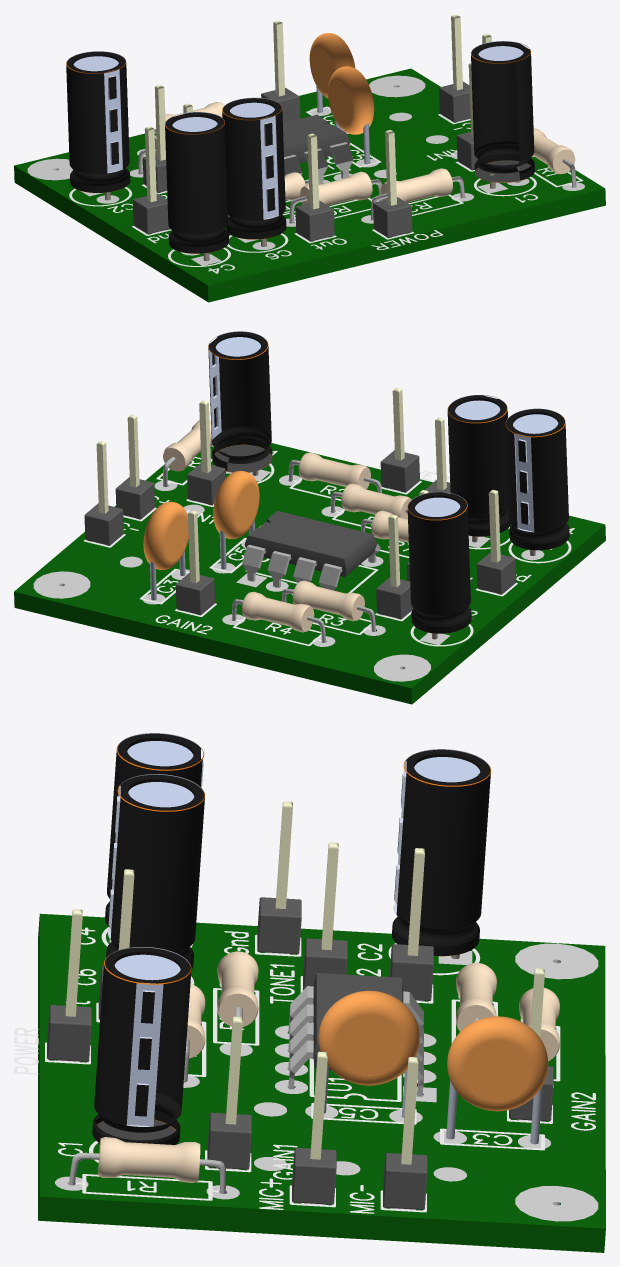
The model's file is electret_mic_amplifier_pcb.glb.
The picture shows the model from 3 angles, top to bottom: view 1: azimuth 30°, elevation 25°; view 2: azimuth 150°, elevation 25°; view 3: azimuth 270°, elevation 25°; orthographic projection. The views are drawn at different scales.
Parts seen in each view (by area): view 1: shape_1, shape_51, shape_33, shape_73, shape_2, shape_11, shape_3, shape_13, shape_89, shape_140, shape_87, shape_31 (+28 smaller); view 2: shape_1, shape_31, shape_2, shape_71, shape_140, shape_3, shape_13, shape_51, shape_89, shape_87, shape_53, shape_133 (+33 smaller); view 3: shape_1, shape_31, shape_71, shape_2, shape_3, shape_87, shape_89, shape_13, shape_11, shape_127, shape_12, shape_137 (+34 smaller).
Boxes of the visible parts, bbox=[...] form: shape_1: bbox=[14, 68, 605, 302]; shape_51: bbox=[165, 124, 228, 253]; shape_33: bbox=[66, 51, 130, 192]; shape_73: bbox=[223, 98, 286, 239]; shape_2: bbox=[27, 75, 584, 265]; shape_11: bbox=[471, 41, 518, 170]; shape_3: bbox=[69, 106, 583, 273]; shape_13: bbox=[471, 41, 534, 180]; shape_89: bbox=[328, 66, 374, 134]; shape_140: bbox=[283, 114, 350, 163]; shape_87: bbox=[309, 33, 355, 98]; shape_31: bbox=[66, 63, 129, 187]; shape_1: bbox=[14, 443, 605, 704]; shape_31: bbox=[407, 504, 469, 633]; shape_2: bbox=[33, 445, 552, 681]; shape_71: bbox=[447, 400, 508, 536]; shape_140: bbox=[244, 511, 377, 577]; shape_3: bbox=[84, 445, 574, 646]; shape_13: bbox=[209, 332, 270, 471]; shape_51: bbox=[510, 409, 569, 541]; shape_89: bbox=[213, 471, 259, 538]; shape_87: bbox=[143, 501, 188, 569]; shape_53: bbox=[505, 409, 567, 550]; shape_133: bbox=[242, 591, 314, 632]; shape_1: bbox=[38, 913, 605, 1252]; shape_31: bbox=[395, 766, 490, 955]; shape_71: bbox=[109, 798, 204, 969]; shape_2: bbox=[55, 939, 598, 1221]; shape_3: bbox=[14, 927, 595, 1213]; shape_87: bbox=[447, 1016, 548, 1111]; shape_89: bbox=[318, 990, 419, 1085]; shape_13: bbox=[92, 947, 190, 1144]; shape_11: bbox=[93, 954, 191, 1129]; shape_127: bbox=[98, 1137, 200, 1182]; shape_12: bbox=[127, 982, 163, 1126]; shape_137: bbox=[217, 951, 258, 1026].
Size of the model in its own units: 0.0397 by 0.0165 by 0.0351.
